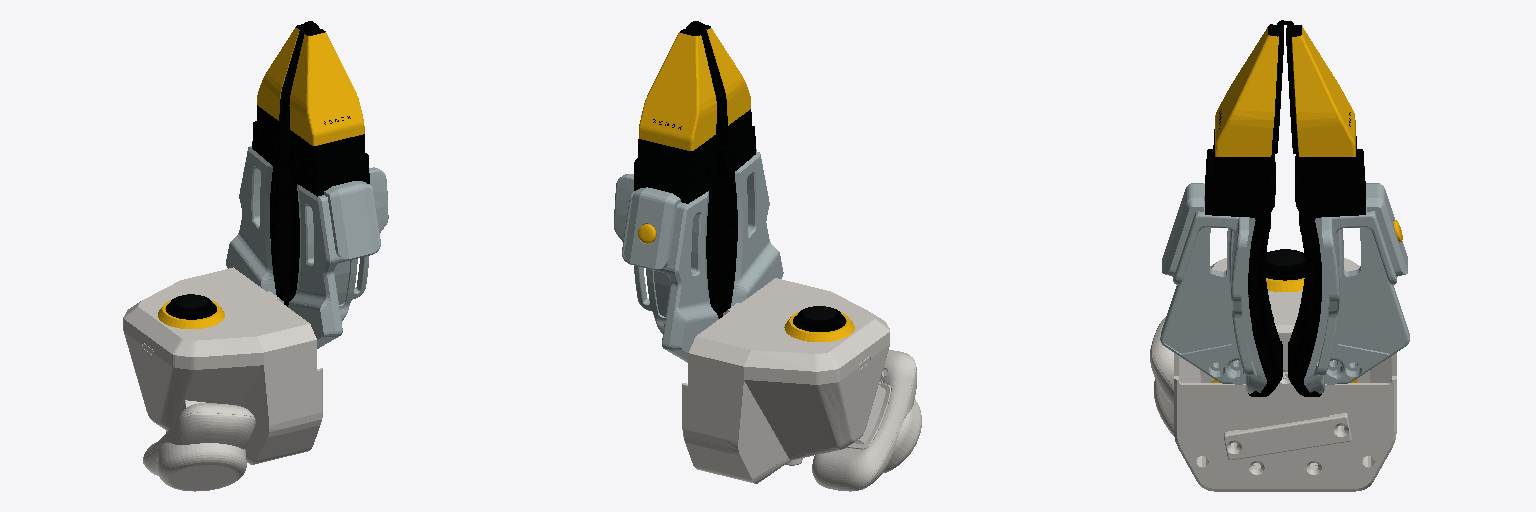
robot.urdf — taccap_g1_master_left:
<?xml version="1.0"?>
<robot name="taccap_g1_master_left">
  <!-- Root on the shell rear outer surface (centre on the tool axis), 23.5 mm above the higher fingertip holding plane; +Z tool axis, +Y left finger. All link frames share these axes; meshes keep their native CAD frame via visual origins (finger hinges along +X). EEF: centre of the closed fingertips' most distal face (mesh-derived, shared with the slave). -->
  <!-- Appearance follows the physical gripper: light shell,
       light-grey finger bodies, black frame strip and screws, yellow only on the fingertips.
       One material per visual, so the face partition in config/appearance.json is shipped as
       separate mesh parts. -->
  <material name="left_silver">
    <color rgba="0.82 0.81 0.79 1" />
  </material>
  <material name="left_cover">
    <color rgba="0.65 0.7 0.71 1" />
  </material>
  <material name="left_black">
    <color rgba="0.018 0.02 0.022 1" />
  </material>
  <material name="left_yellow">
    <color rgba="0.95 0.72 0.07 1" />
  </material>
  <!-- Fisheye cover glass: dark mirror, slightly transparent. -->
  <material name="left_lens">
    <color rgba="0.05 0.055 0.06 0.62" />
  </material>
  <link name="left_base_link">
    <visual name="left_body_visual_silver">
      <origin xyz="0.02065 0 0.024785" rpy="0 -1.5707963267948966 0" />
      <geometry>
        <mesh filename="../meshes/left/base_link__silver.STL" />
      </geometry>
      <material name="left_silver" />
    </visual>
    <visual name="left_body_visual_cover">
      <origin xyz="0.02065 0 0.024785" rpy="0 -1.5707963267948966 0" />
      <geometry>
        <mesh filename="../meshes/left/base_link__cover.STL" />
      </geometry>
      <material name="left_cover" />
    </visual>
    <visual name="left_body_visual_black">
      <origin xyz="0.02065 0 0.024785" rpy="0 -1.5707963267948966 0" />
      <geometry>
        <mesh filename="../meshes/left/base_link__black.STL" />
      </geometry>
      <material name="left_black" />
    </visual>
    <visual name="left_body_visual_yellow">
      <origin xyz="0.02065 0 0.024785" rpy="0 -1.5707963267948966 0" />
      <geometry>
        <mesh filename="../meshes/left/base_link__yellow.STL" />
      </geometry>
      <material name="left_yellow" />
    </visual>
    <visual name="left_body_visual_lens">
      <origin xyz="0.02065 0 0.024785" rpy="0 -1.5707963267948966 0" />
      <geometry>
        <mesh filename="../meshes/left/base_link__lens.STL" />
      </geometry>
      <material name="left_lens" />
    </visual>
    <visual name="left_body_aux_visual">
      <origin xyz="0.0364999715519367 0 0.189421788170065" rpy="1.5707963267948966 0 -1.5707963267948966" />
      <geometry>
        <mesh filename="../meshes/left/link4.STL" />
      </geometry>
      <material name="left_silver" />
    </visual>
  </link>
  <link name="left_right_link">
    <visual name="left_right_link_visual_cover">
      <origin xyz="0 0 0" rpy="0 -1.5707963267948966 0" />
      <geometry>
        <mesh filename="../meshes/left/link1__cover.STL" />
      </geometry>
      <material name="left_cover" />
    </visual>
    <visual name="left_right_link_visual_black">
      <origin xyz="0 0 0" rpy="0 -1.5707963267948966 0" />
      <geometry>
        <mesh filename="../meshes/left/link1__black.STL" />
      </geometry>
      <material name="left_black" />
    </visual>
    <visual name="left_right_link_visual_silver">
      <origin xyz="0 0 0" rpy="0 -1.5707963267948966 0" />
      <geometry>
        <mesh filename="../meshes/left/link1__silver.STL" />
      </geometry>
      <material name="left_silver" />
    </visual>
    <visual name="left_right_link_visual_yellow">
      <origin xyz="0 0 0" rpy="0 -1.5707963267948966 0" />
      <geometry>
        <mesh filename="../meshes/left/link1__yellow.STL" />
      </geometry>
      <material name="left_yellow" />
    </visual>
    <visual name="left_right_link_visual_print">
      <origin xyz="0 0 0" rpy="0 -1.5707963267948966 0" />
      <geometry>
        <mesh filename="../meshes/left/link1_silkscreen.STL" />
      </geometry>
      <material name="left_black" />
    </visual>
  </link>
  <joint name="left_right_joint" type="revolute">
    <origin xyz="0.01464997155193993 -0.0199448287448794 0.0369999972236626" rpy="0 0 0" />
    <parent link="left_base_link" />
    <child link="left_right_link" />
    <axis xyz="1 0 0" />
    <limit lower="0" upper="0.5047492196767601" effort="1" velocity="1" />
  </joint>
  <link name="left_left_link">
    <visual name="left_left_link_visual_cover">
      <origin xyz="0 0 0" rpy="0 -1.5707963267948966 0" />
      <geometry>
        <mesh filename="../meshes/left/link2__cover.STL" />
      </geometry>
      <material name="left_cover" />
    </visual>
    <visual name="left_left_link_visual_black">
      <origin xyz="0 0 0" rpy="0 -1.5707963267948966 0" />
      <geometry>
        <mesh filename="../meshes/left/link2__black.STL" />
      </geometry>
      <material name="left_black" />
    </visual>
    <visual name="left_left_link_visual_silver">
      <origin xyz="0 0 0" rpy="0 -1.5707963267948966 0" />
      <geometry>
        <mesh filename="../meshes/left/link2__silver.STL" />
      </geometry>
      <material name="left_silver" />
    </visual>
    <visual name="left_left_link_visual_yellow">
      <origin xyz="0 0 0" rpy="0 -1.5707963267948966 0" />
      <geometry>
        <mesh filename="../meshes/left/link2__yellow.STL" />
      </geometry>
      <material name="left_yellow" />
    </visual>
    <visual name="left_left_link_visual_print">
      <origin xyz="0 0 0" rpy="0 -1.5707963267948966 0" />
      <geometry>
        <mesh filename="../meshes/left/link2_silkscreen.STL" />
      </geometry>
      <material name="left_black" />
    </visual>
  </link>
  <joint name="left_left_joint" type="revolute">
    <origin xyz="0.01465 0.019955 0.037" rpy="0 0 0" />
    <parent link="left_base_link" />
    <child link="left_left_link" />
    <axis xyz="1 0 0" />
    <limit lower="-0.5047492196767601" upper="0" effort="1" velocity="1" />
    <mimic joint="left_right_joint" multiplier="-1" offset="0" />
  </joint>
  <link name="left_pico_link">
    <!-- The PICO puck mesh, kept in its own CAD part frame (export artefact). -->
    <visual>
      <geometry>
        <mesh filename="../meshes/left/link3.STL" />
      </geometry>
      <material name="left_silver" />
    </visual>
  </link>
  <joint name="left_pico_joint" type="fixed">
    <origin xyz="-0.032054 -0.023651 0.014053" rpy="2.8750023051296245 0.8599287316238766 -1.9703474638774119" />
    <parent link="left_base_link" />
    <child link="left_pico_link" />
  </joint>
  <!-- PICO tracker datum: what TacCap-Gripper records as the tracker pose. This is
       NOT left_pico_link, which is the puck mesh's CAD part frame (an export
       artefact, unrelated to the device axes). Anchored on the code's built-in
       tracker->EE extrinsic, which this frame must reproduce exactly:
         ^eef T_tracker = T(Ry(-90 deg)) * inverse(^tracker T_eef)
       See scripts/_frames.py and tests/test_tracker_frame.py.
       Teleoperation: take this frame from the URDF of the side in use. -->
  <link name="left_tracker_link" />
  <joint name="left_tracker_joint" type="fixed">
    <origin xyz="-0.035075794 -0.029203296 0.010155299" rpy="-1.855768178207 0.742430111242 -1.979704154721" />
    <parent link="left_base_link" />
    <child link="left_tracker_link" />
  </joint>
  <link name="left_eef_link" />
  <joint name="left_eef_joint" type="fixed">
    <origin xyz="0.036575 0 0.1894217" rpy="0 0 0" />
    <parent link="left_base_link" />
    <child link="left_eef_link" />
  </joint>
  <!-- Wrist camera: on the dome-window axis, 19.95 mm behind the window ring (same point as the
       slave camera). Same axes as the flange: +Z optical axis, +Y left finger. -->
  <link name="left_camera_link" />
  <joint name="left_camera_joint" type="fixed">
    <origin xyz="-0.02285 0 0.04975" rpy="0 0 0" />
    <parent link="left_base_link" />
    <child link="left_camera_link" />
  </joint>
  <!-- Optical frame (REP-103): +Z optical axis, +X image right, +Y image down toward the fingers. -->
  <link name="left_camera_optical_link" />
  <joint name="left_camera_optical_joint" type="fixed">
    <origin xyz="0 0 0" rpy="0 0 -1.5707963267948966" />
    <parent link="left_camera_link" />
    <child link="left_camera_optical_link" />
  </joint>
  <!-- Massless frame matching the follower (slave) taccap_base_link, i.e. the slave mounting
       face: 11.5 mm behind the master rear surface, same axes. Not a physical part. -->
  <link name="left_follower_link" />
  <joint name="left_follower_joint" type="fixed">
    <origin xyz="0 0 -0.0115" rpy="0 0 0" />
    <parent link="left_base_link" />
    <child link="left_follower_link" />
  </joint>
</robot>

--- What the picture shows (computed from the rendered views, not written in the file) ---
The picture shows the robot from 3 angles, left to right: view 1: azimuth 30°, elevation 25°; view 2: azimuth 150°, elevation 25°; view 3: azimuth 270°, elevation 25°; orthographic projection.
Robot: taccap_g1_master_left — 9 links, 8 joints (2 revolute, 6 fixed); root link left_base_link; default pose: all joints at 0.
Visible links, largest first — view 1: left_base_link, left_right_link, left_left_link; view 2: left_base_link, left_left_link, left_right_link; view 3: left_base_link, left_left_link, left_right_link.
Boxes of the visible links, <box> form: left_base_link: <box>123,267,322,491</box>; left_right_link: <box>286,22,388,348</box>; left_left_link: <box>226,21,312,304</box>; left_base_link: <box>682,278,921,491</box>; left_left_link: <box>614,22,720,362</box>; left_right_link: <box>693,21,783,317</box>; left_base_link: <box>1150,249,1396,491</box>; left_left_link: <box>1285,21,1409,396</box>; left_right_link: <box>1160,20,1286,396</box>.
Size in the robot's own frame: 0.1183 by 0.0909 by 0.1994 metres.
Meshes: 17 distinct files referenced, 15 mesh visuals loaded (15 binary STL); not drawn: 2 (reference not matched to a file when rendering).
